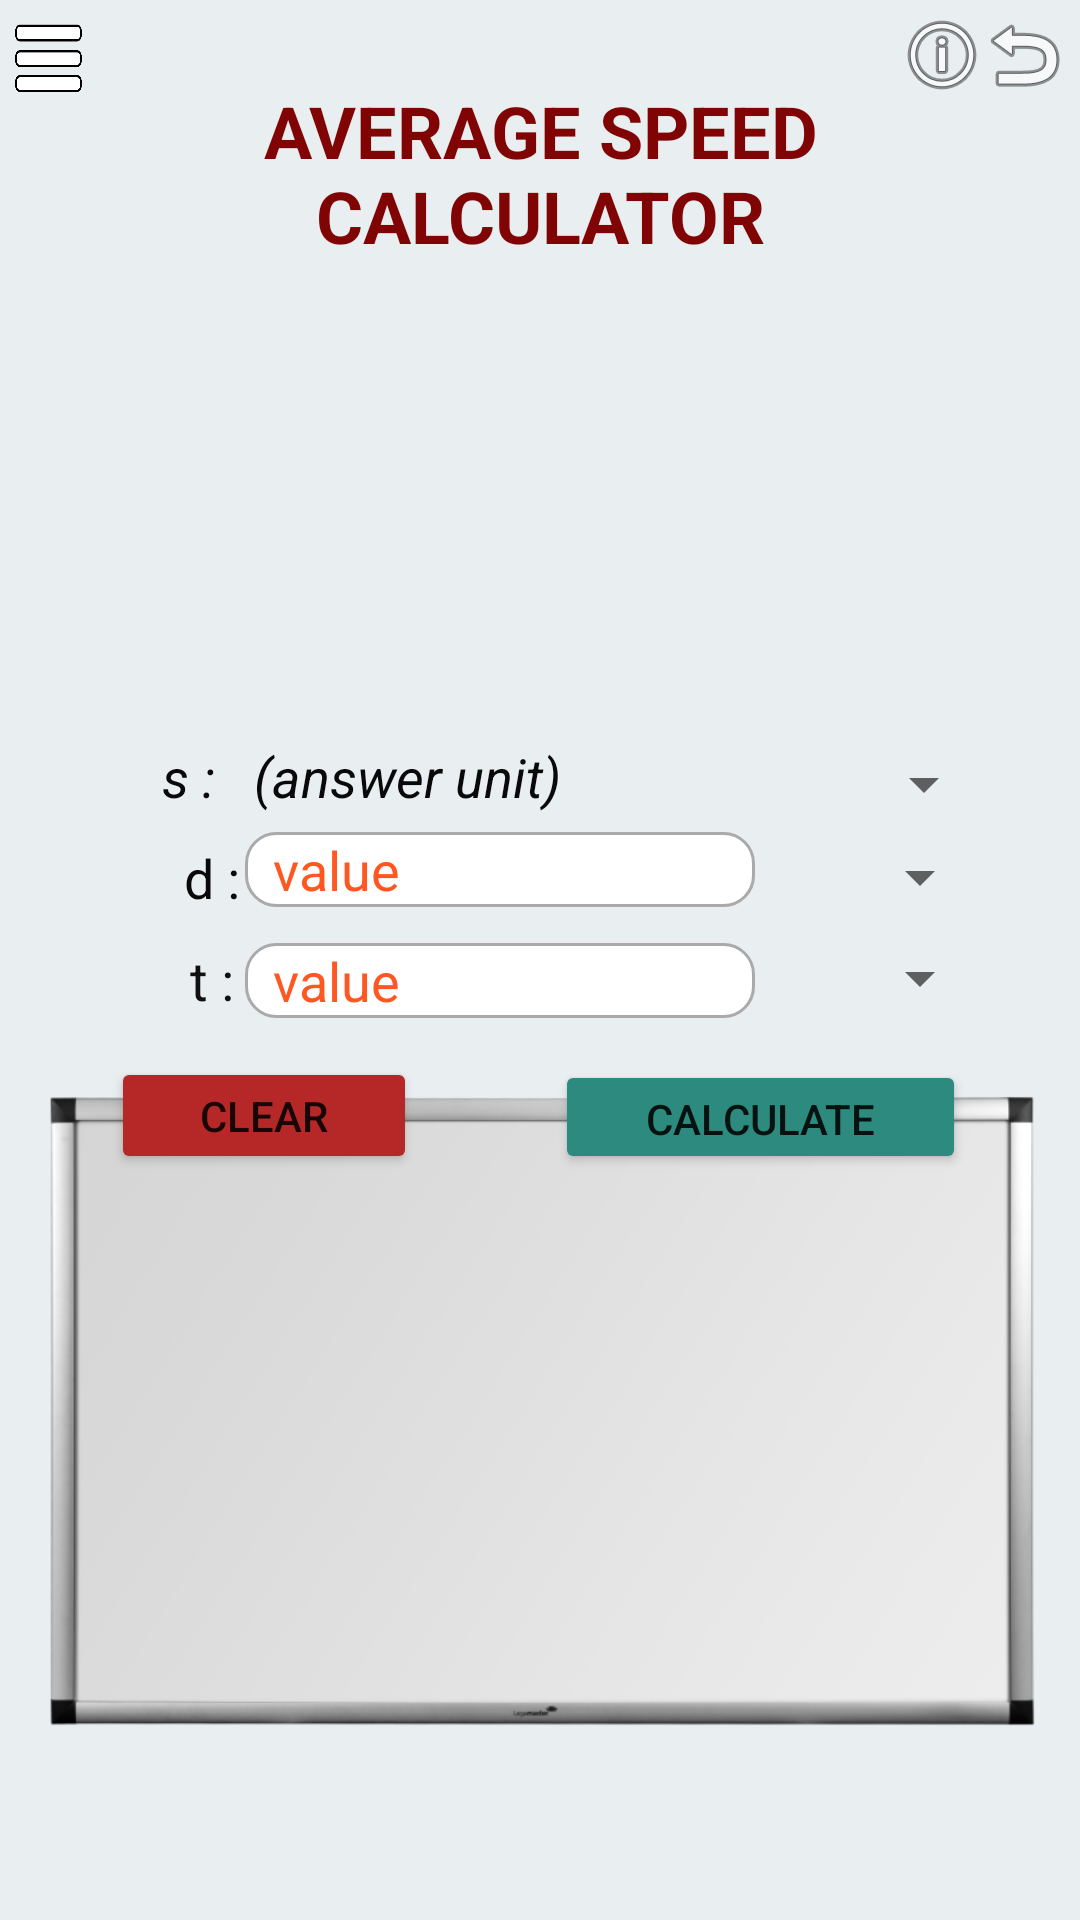

Named icons in this screenshot (1080 x 1920) and their bounding boxes, box(x1, y1, x2, y2):
info details: box(907, 20, 977, 90)
menu: box(15, 24, 82, 92)
revert: box(991, 24, 1060, 87)
